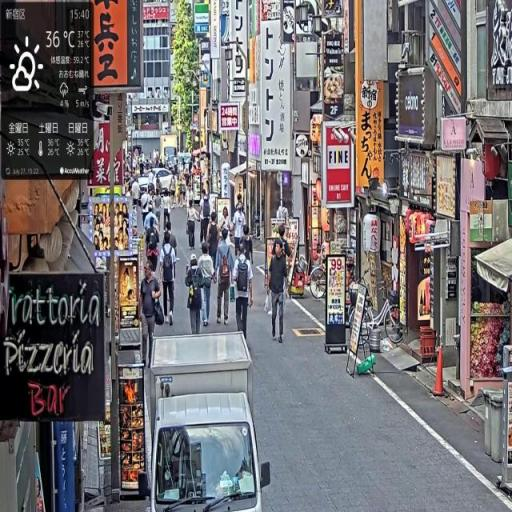person: (140, 262, 165, 371), (267, 239, 290, 344), (234, 241, 254, 342), (216, 227, 236, 328), (160, 232, 179, 328), (198, 241, 217, 331), (233, 198, 248, 259)
